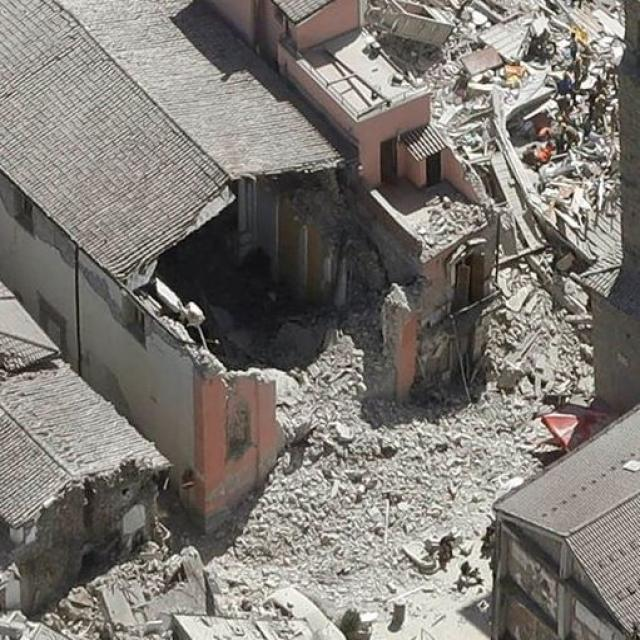collapsed_building: (91, 113, 501, 527), (381, 0, 638, 323)
